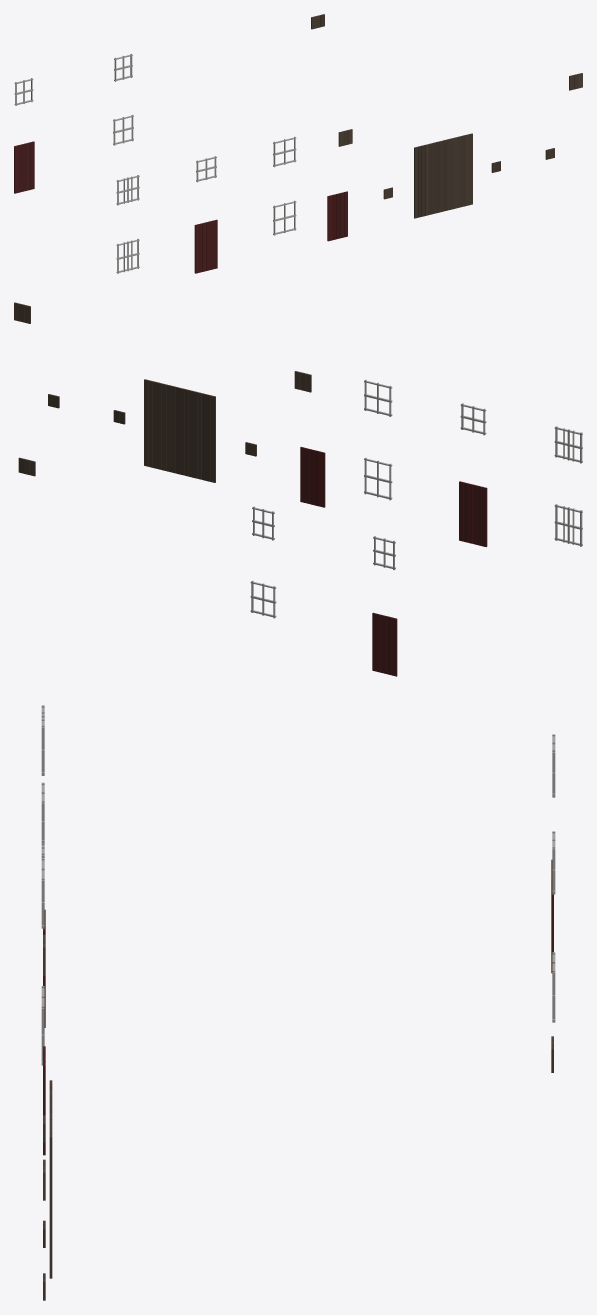
File: SM_Bld_123_Wood.glb
3 renders of one model, top to bottom at view 1: azimuth 30°, elevation 25°; view 2: azimuth 150°, elevation 25°; view 3: azimuth 270°, elevation 25°, orthographic. The views are drawn at different scales.
Parts seen in each view (by area): view 1: SM_Bld_123_Wood; view 2: SM_Bld_123_Wood; view 3: SM_Bld_123_Wood.
Boxes of the visible parts, x1,y1,x2,y2 form: SM_Bld_123_Wood: [14, 14, 582, 273]; SM_Bld_123_Wood: [14, 302, 582, 676]; SM_Bld_123_Wood: [41, 705, 555, 1300].
Size of the model in its own units: 20.72 by 4.78 by 9.89.
